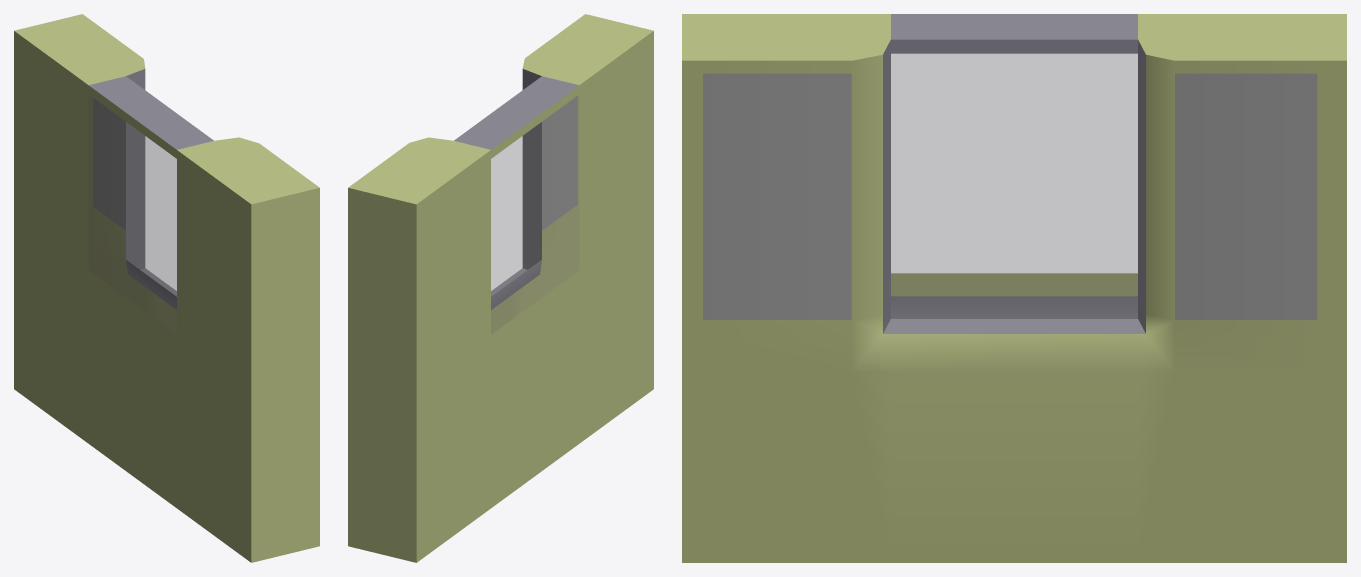
Rendered from windowwall.fbx.
3 renders of one model, left to right at view 1: azimuth 30°, elevation 25°; view 2: azimuth 150°, elevation 25°; view 3: azimuth 270°, elevation 25°, orthographic. The views are drawn at different scales.
Parts seen in each view (by area): view 1: window_mod; view 2: window_mod; view 3: window_mod.
Boxes of the visible parts, box(x1,y1,x2,y2) form: window_mod: box(14, 14, 319, 562); window_mod: box(348, 14, 653, 562); window_mod: box(682, 14, 1346, 562).
Size of the model in its own units: 1 by 5 by 6.
